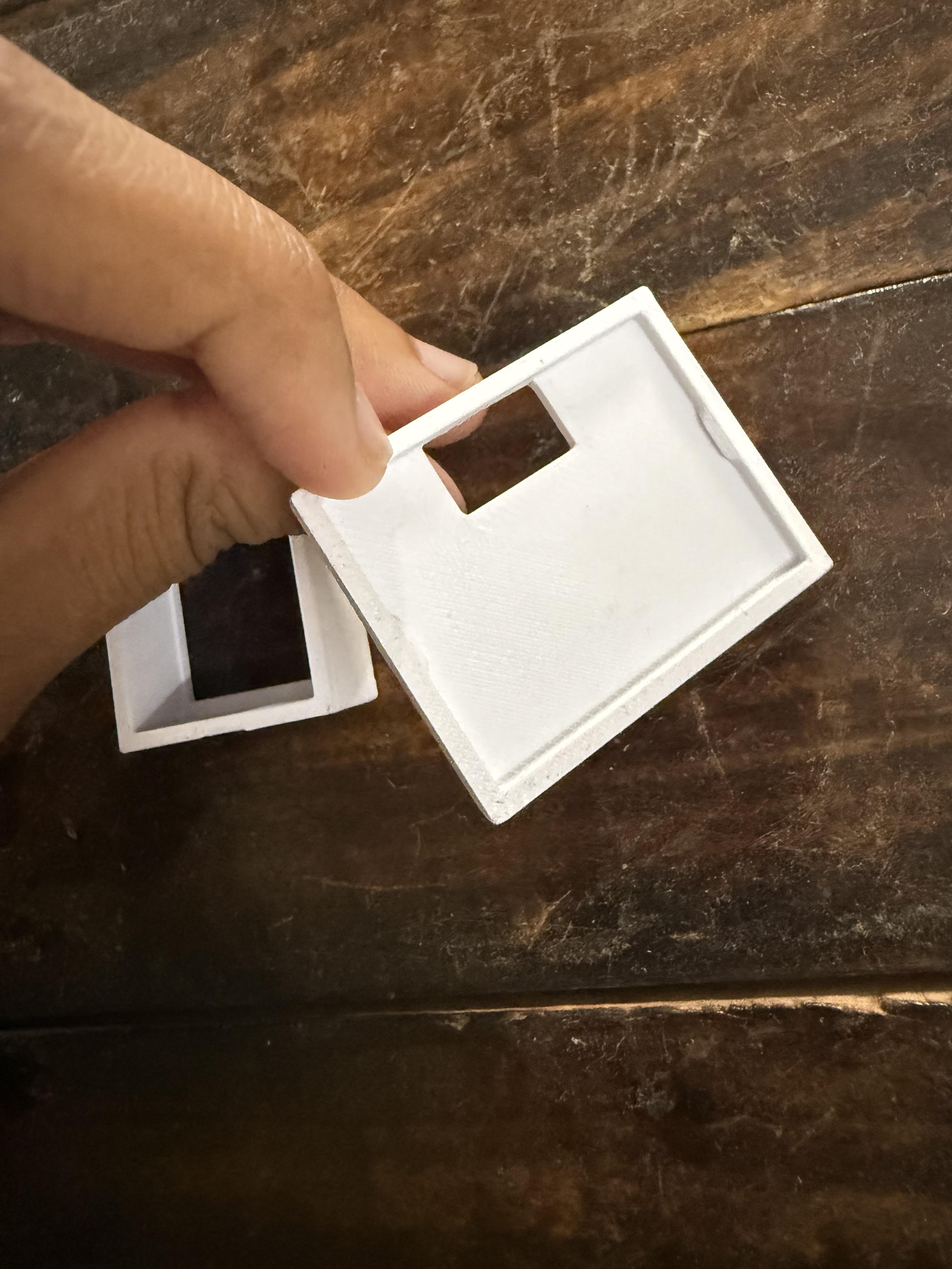enclosure: (289, 286, 834, 825), (105, 528, 379, 753)
